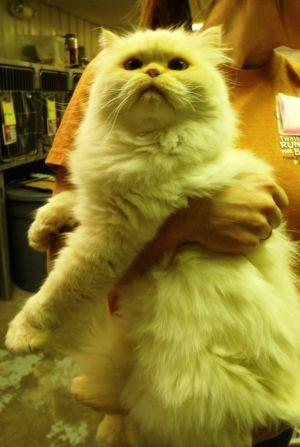persian: (82, 13, 235, 154)
